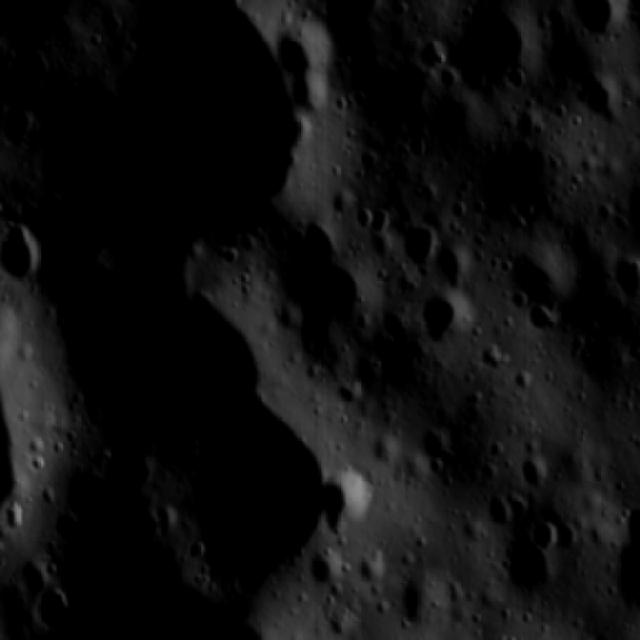crater: (261, 222, 367, 366), (454, 0, 538, 102), (0, 213, 52, 295), (555, 0, 637, 48), (318, 474, 384, 532), (26, 578, 86, 640), (427, 290, 478, 353), (401, 218, 454, 271), (609, 533, 640, 618), (578, 71, 620, 131), (607, 251, 640, 308), (527, 514, 567, 560), (612, 179, 640, 233)
